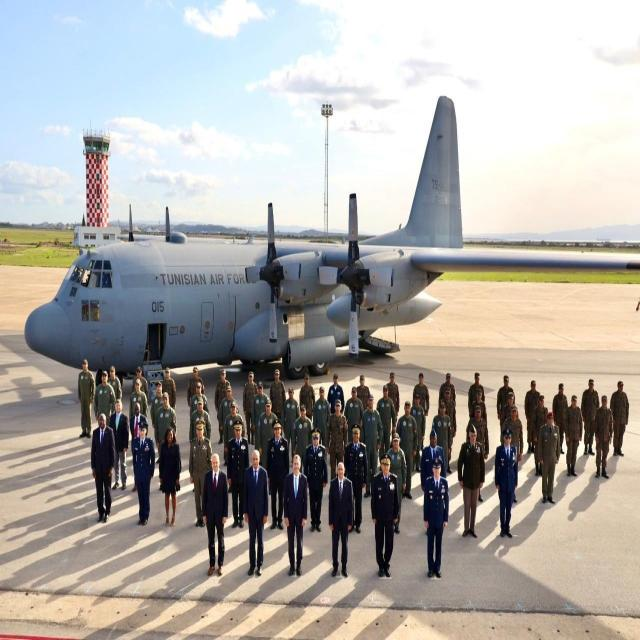C130: (12, 85, 640, 425)
